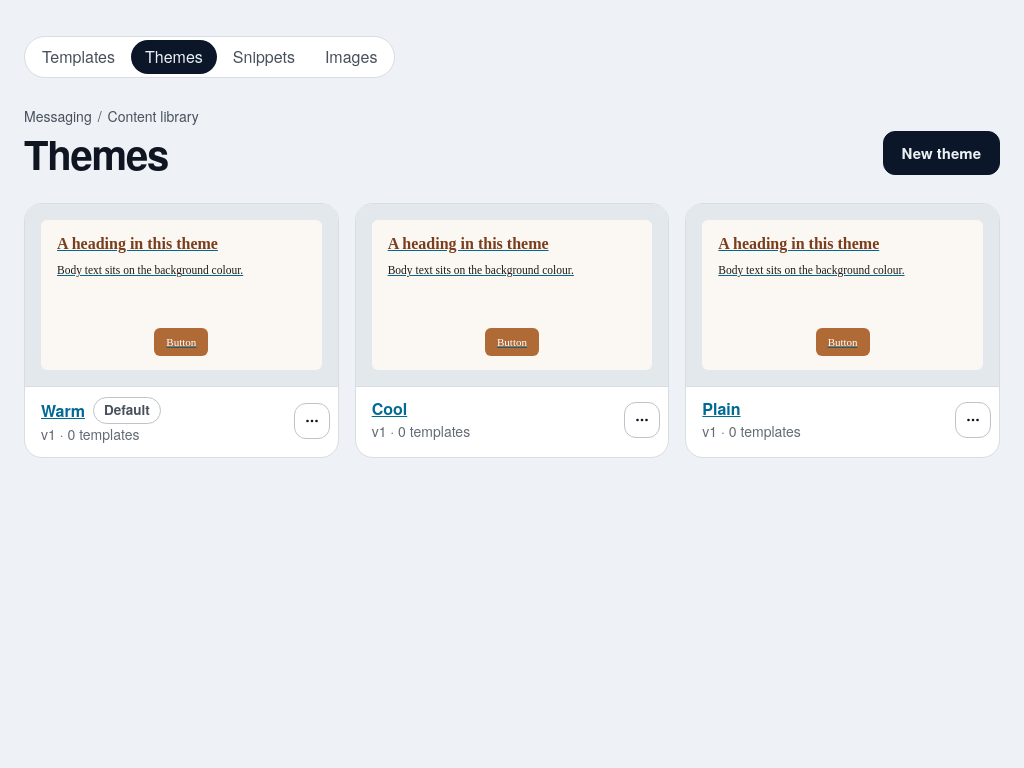
it: the set-default confirm › counts the followers of the default as it is now, not as the page loaded it
Step 1. Click the button named "More actions for Plain" → (973, 420), box [955,402,991,438]
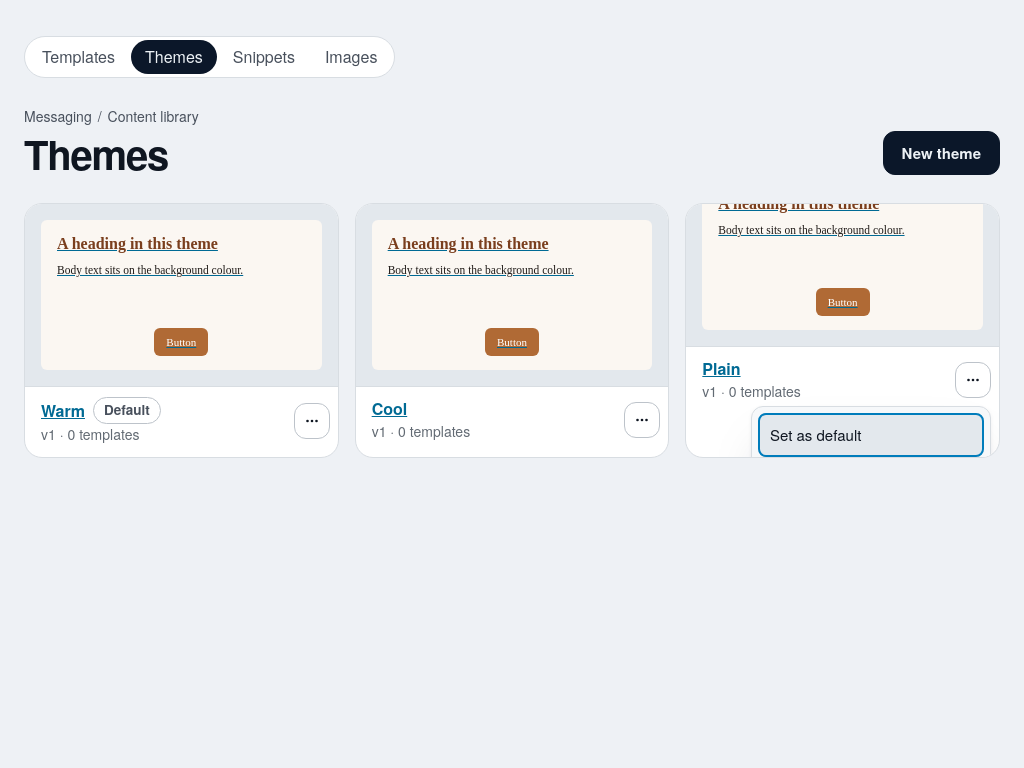
Step 2. Click the menu item "Set as default" → (871, 435), box [758,413,984,457]
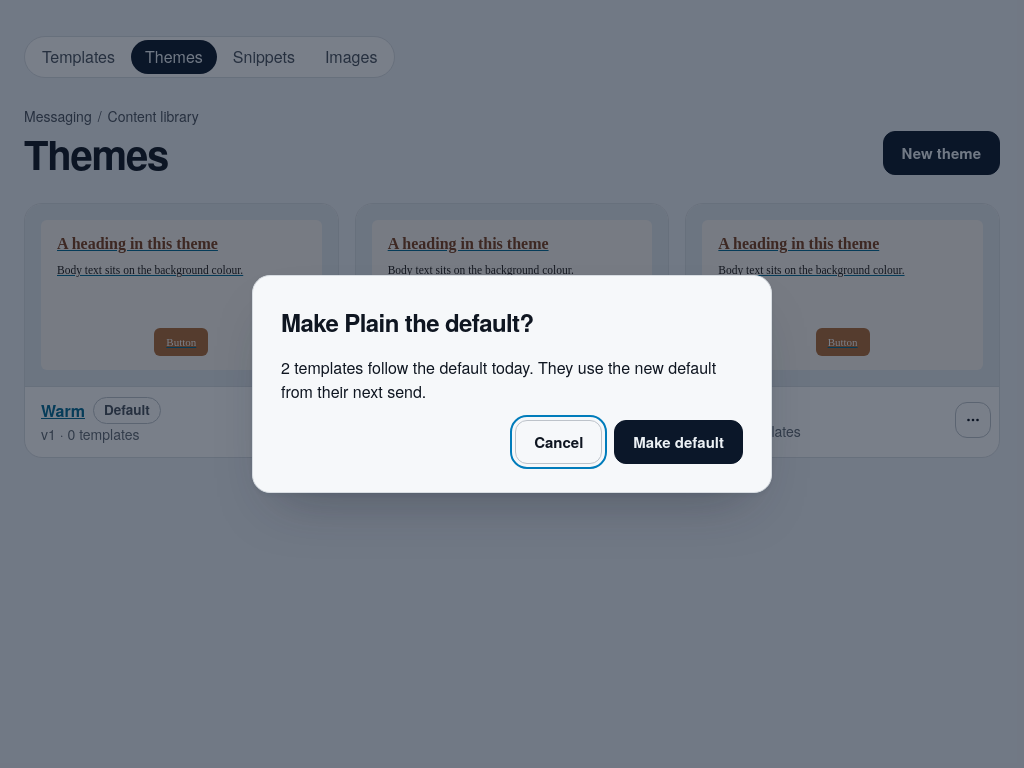
expect the text "2 templates follow the default today" is shown: met, box [281,356,743,404]
